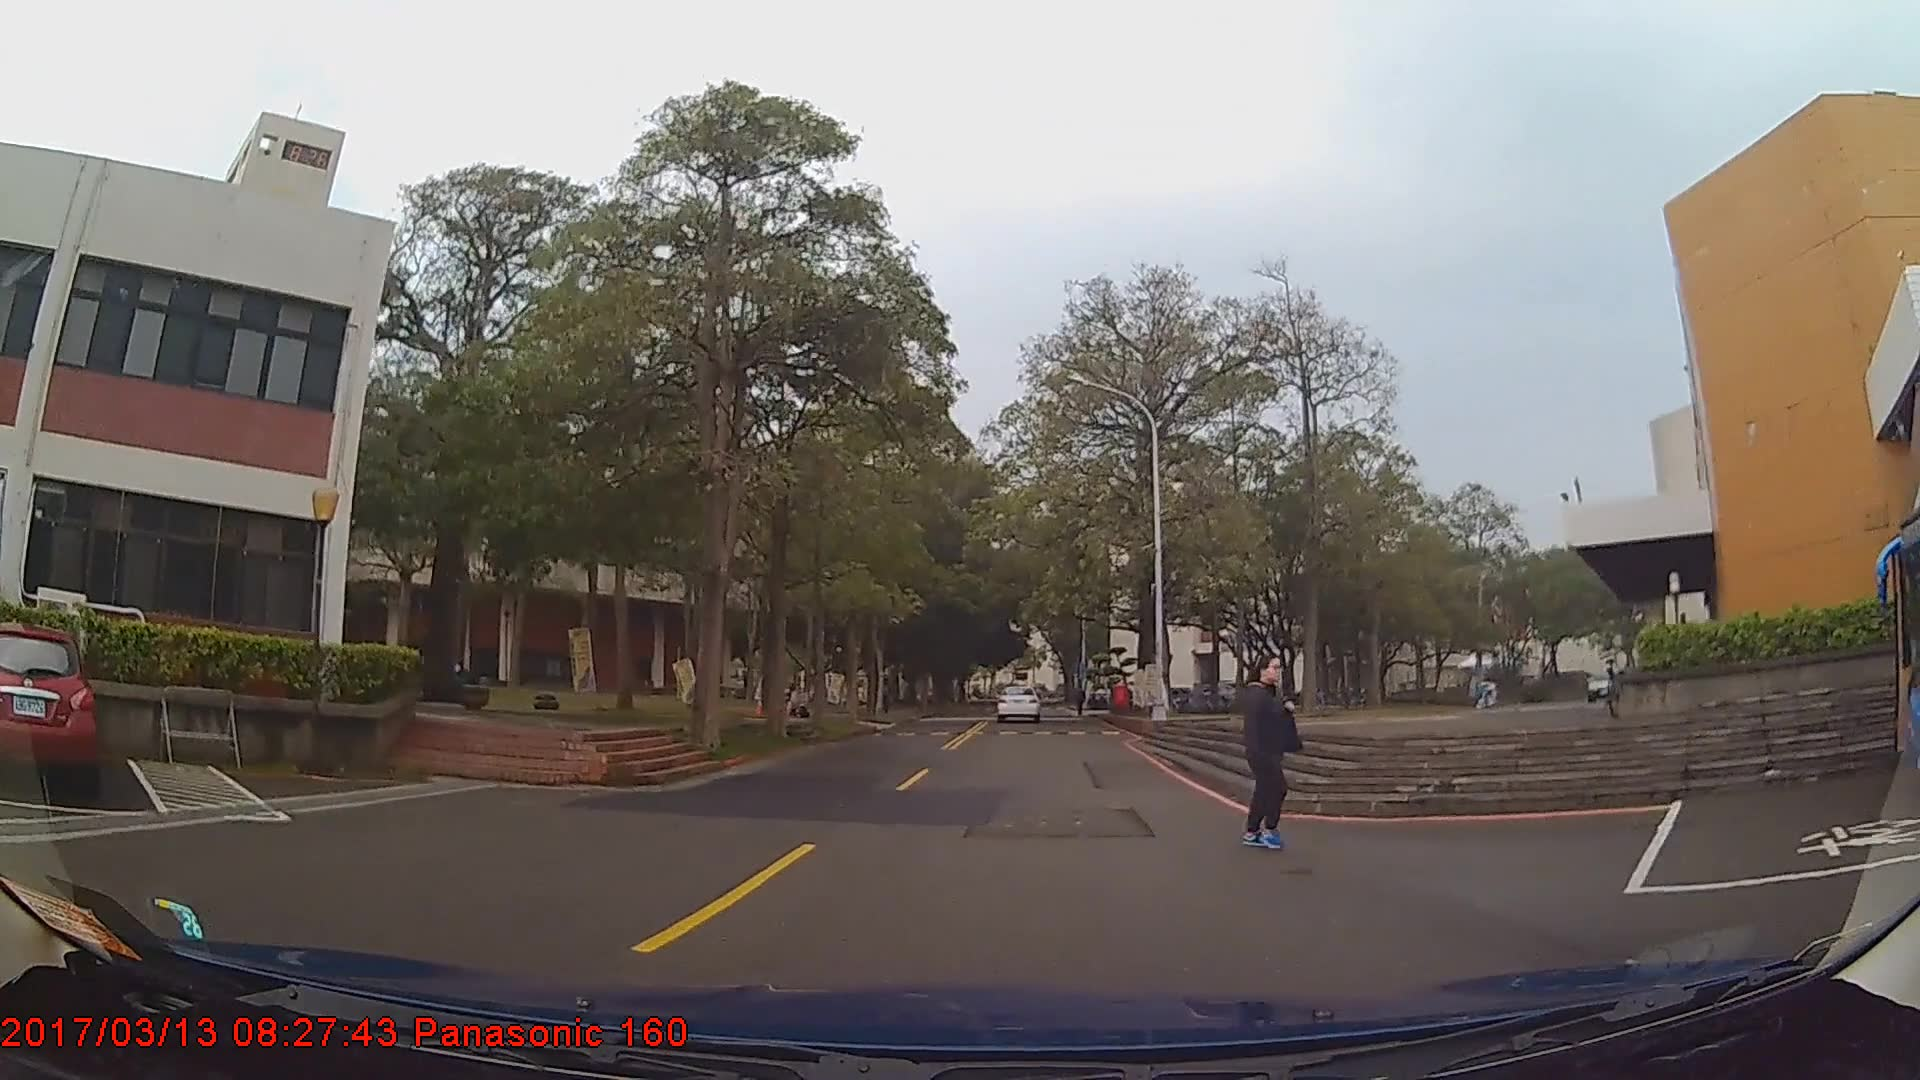pedestrian: (1236, 651, 1310, 846)
vehicle: (0, 621, 94, 796), (996, 682, 1041, 721)
